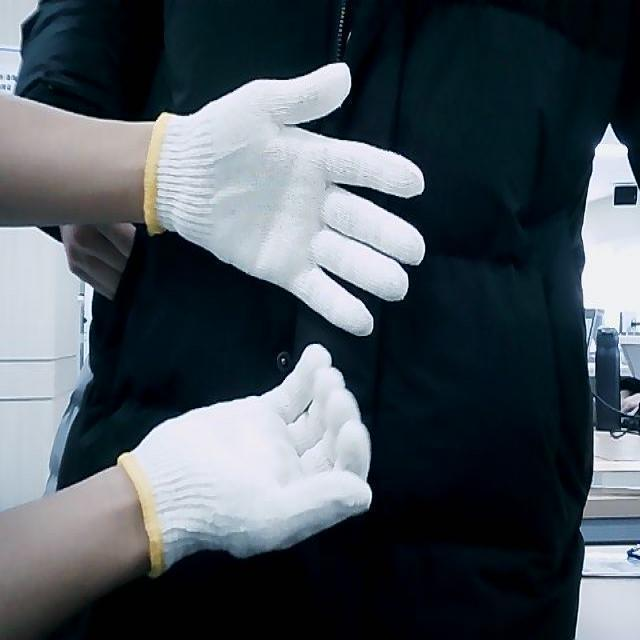GLOVE: (144, 62, 428, 336), (118, 344, 374, 574)
